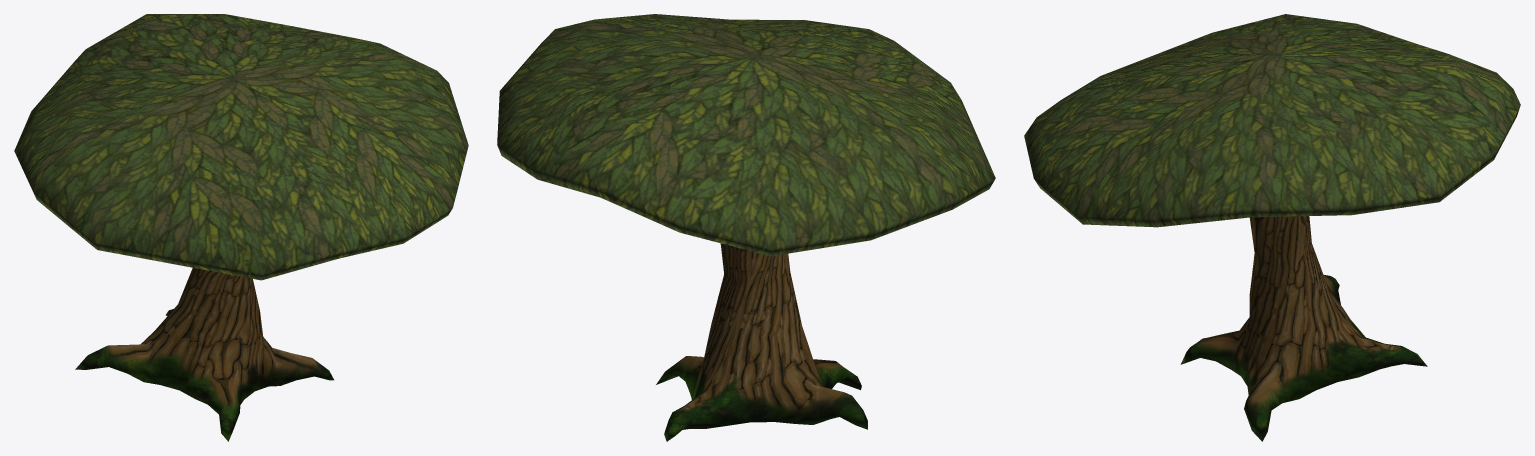
Rendered from TwistedOak21Shape.dae.
3 views of the same model, side by side, from view 1: azimuth 30°, elevation 25°; view 2: azimuth 150°, elevation 25°; view 3: azimuth 270°, elevation 25° (orthographic). The views are drawn at different scales.
Parts seen in each view (by area): view 1: TwistedOak21; view 2: TwistedOak21; view 3: TwistedOak21.
Boxes of the visible parts, box(x1,y1,x2,y2) form: TwistedOak21: box(14, 14, 468, 441); TwistedOak21: box(497, 14, 995, 441); TwistedOak21: box(1024, 14, 1520, 441).
Size of the model in its own units: 21.56 by 16.81 by 22.3.
